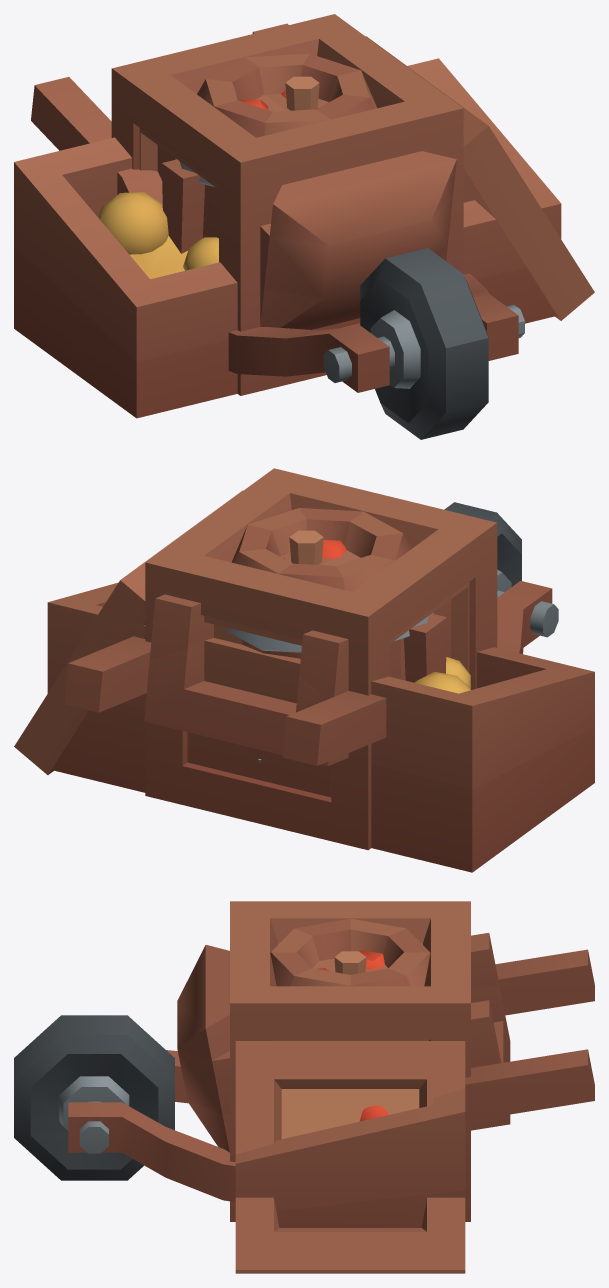
Rendered from mercato-kaykit.glb.
3 views of the same model, one above another, from view 1: azimuth 30°, elevation 25°; view 2: azimuth 150°, elevation 25°; view 3: azimuth 270°, elevation 25° (orthographic). The views are drawn at different scales.
Visible parts, largest first — view 1: wheelbarrow, crate_long_A, crate_A_big, crate_open, barrel; view 2: crate_long_A, crate_A_big, wheelbarrow, barrel, crate_open; view 3: wheelbarrow, crate_open, crate_A_big, crate_long_A, barrel.
Part boxes in pixels (bbox=[...]): wheelbarrow: bbox=[31, 23, 524, 439]; crate_long_A: bbox=[14, 58, 561, 418]; crate_A_big: bbox=[111, 14, 463, 395]; crate_open: bbox=[139, 36, 594, 320]; barrel: bbox=[175, 53, 376, 237]; crate_long_A: bbox=[47, 583, 594, 872]; crate_A_big: bbox=[145, 468, 497, 850]; wheelbarrow: bbox=[64, 502, 558, 766]; barrel: bbox=[227, 508, 433, 763]; crate_open: bbox=[14, 490, 469, 797]; wheelbarrow: bbox=[14, 933, 594, 1202]; crate_open: bbox=[235, 950, 465, 1273]; crate_A_big: bbox=[230, 901, 470, 1221]; crate_long_A: bbox=[235, 1089, 465, 1227]; barrel: bbox=[270, 918, 430, 986].
Bounding box in the file's own units: 0.4316 × 0.2174 × 0.5057.
Materials: 9 (9 with a texture image).
